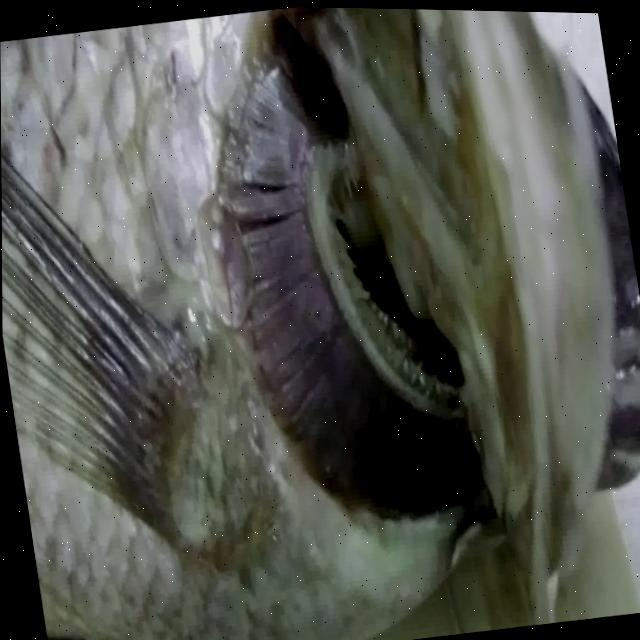Non-Fresh: (178, 5, 492, 581)
